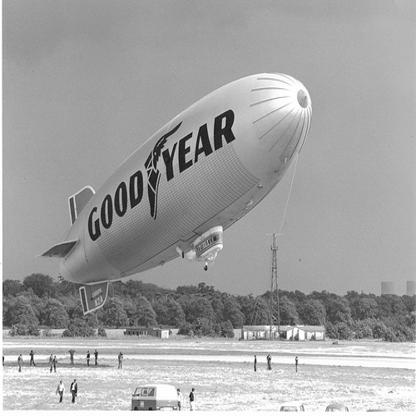Airship: (41, 71, 315, 315)
